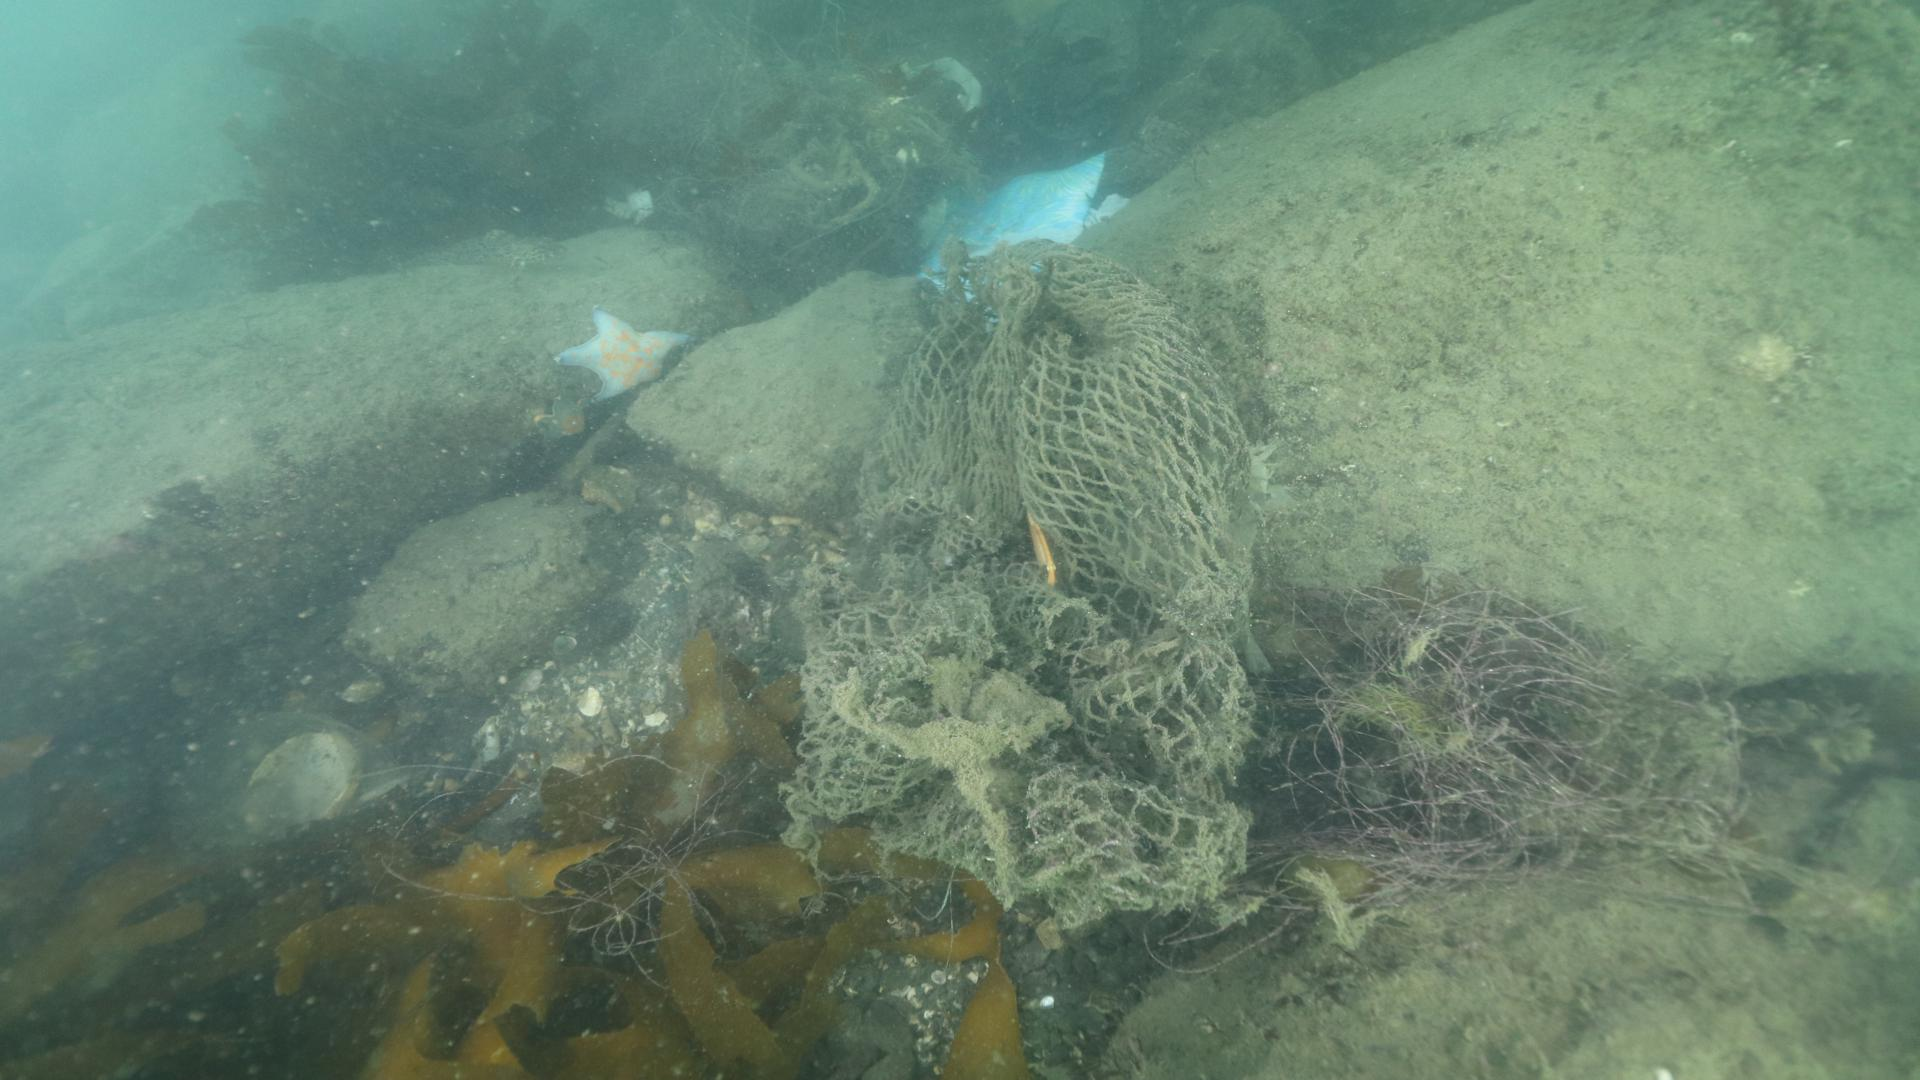fish net: (796, 241, 1253, 898)
